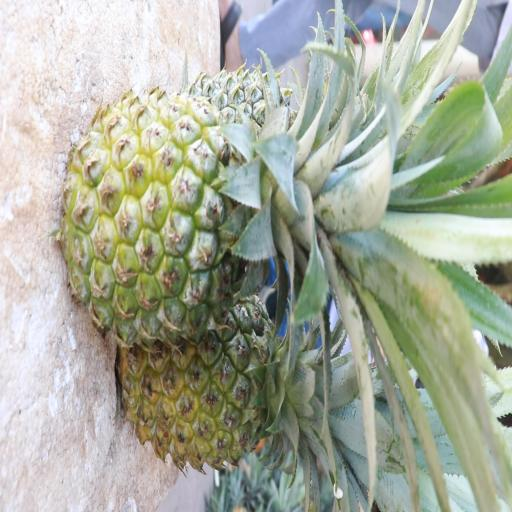Pineapple - v8 v1: (61, 82, 348, 338), (119, 298, 330, 477)
